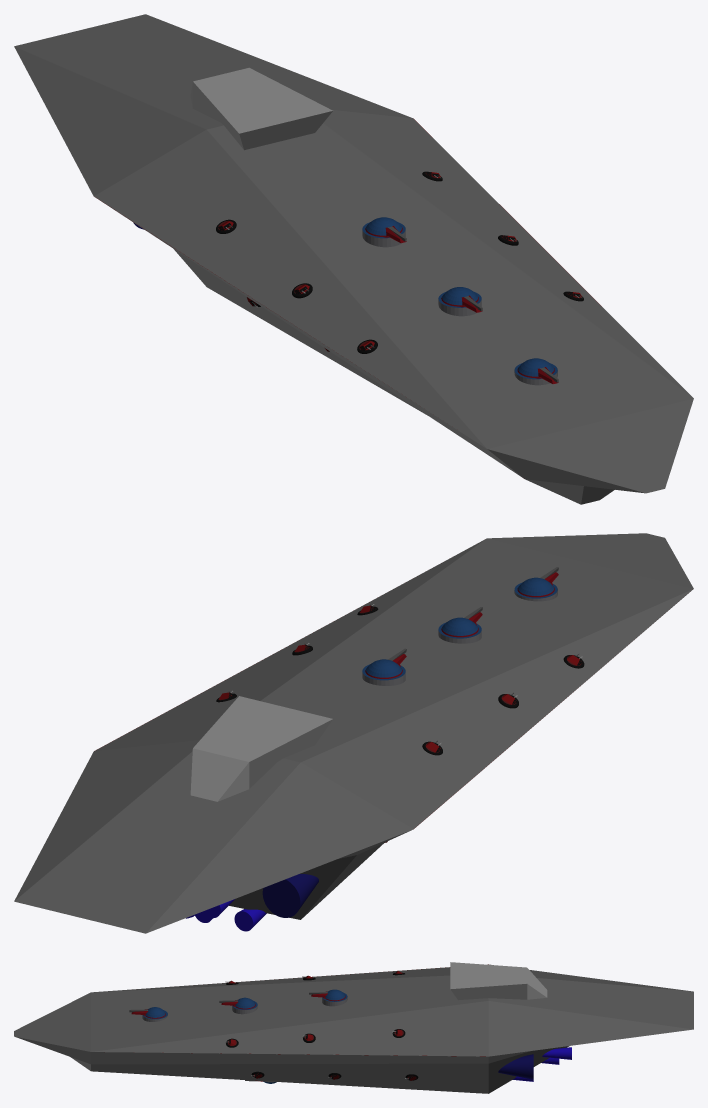
3 views of the same model, one above another, from view 1: azimuth 30°, elevation 25°; view 2: azimuth 150°, elevation 25°; view 3: azimuth 270°, elevation 25° (orthographic). The views are drawn at different scales.
Parts seen in each view (by area): view 1: Cube.003, Cube.005, Cylinder.002, Cylinder.001, Cylinder; view 2: Cube.003, Cube.005, Cone.004, Cylinder.002, Cylinder.001, Cylinder; view 3: Cube.003, Cube.005, Cone.005, Cylinder.002, Cylinder.001, Cylinder, Cone.007.
Boxes of the visible parts, x1,y1,x2,y2 form: Cube.003: [14, 14, 693, 504]; Cube.005: [190, 67, 332, 150]; Cylinder.002: [362, 217, 406, 247]; Cylinder.001: [438, 287, 482, 316]; Cylinder: [514, 358, 558, 385]; Cube.003: [14, 533, 693, 933]; Cube.005: [190, 696, 332, 801]; Cone.004: [262, 874, 318, 917]; Cylinder.002: [362, 648, 406, 685]; Cylinder.001: [438, 607, 482, 643]; Cylinder: [514, 567, 558, 601]; Cube.003: [14, 964, 693, 1093]; Cube.005: [450, 962, 547, 1000]; Cone.005: [498, 1054, 533, 1079]; Cylinder.002: [309, 989, 347, 1006]; Cylinder.001: [219, 997, 257, 1014]; Cylinder: [129, 1007, 167, 1021]; Cone.007: [542, 1047, 571, 1059].
Bounding box in the file's own units: 1700 × 943 × 5300.
